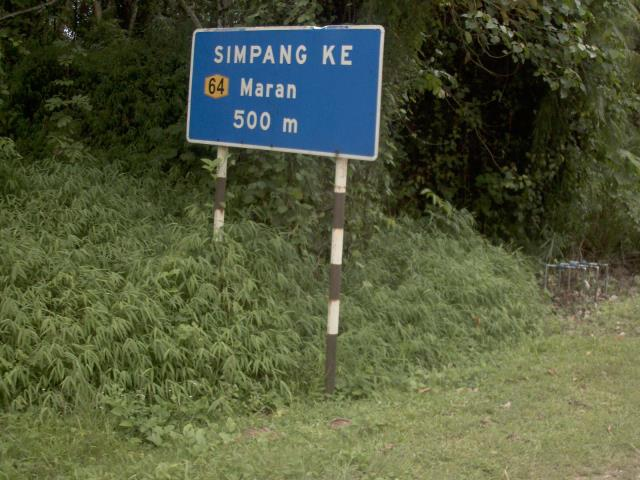traffic_sign: (178, 9, 394, 175)
